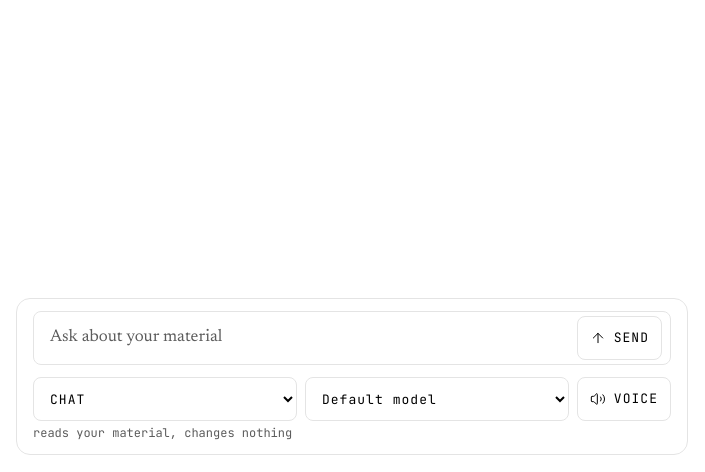
Test case: the agent dock › the conversations › loads the history when the list is opened
Click the text box labelled "Ask about your material" at (305, 338), box [42,316,569,360]
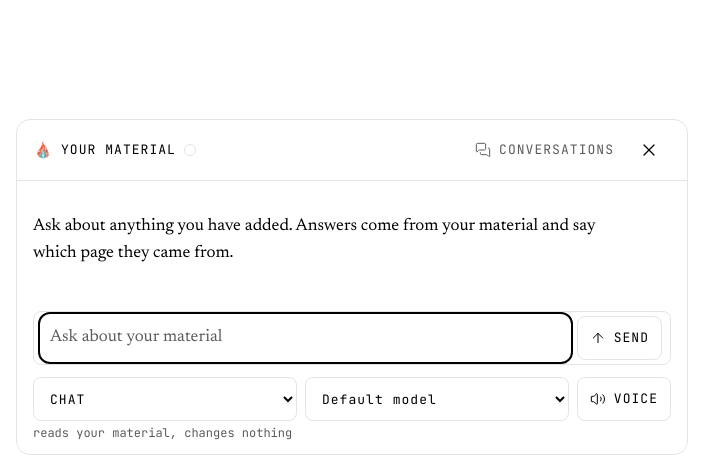
Click the button "Conversations" at (545, 150), box [466,128,623,172]
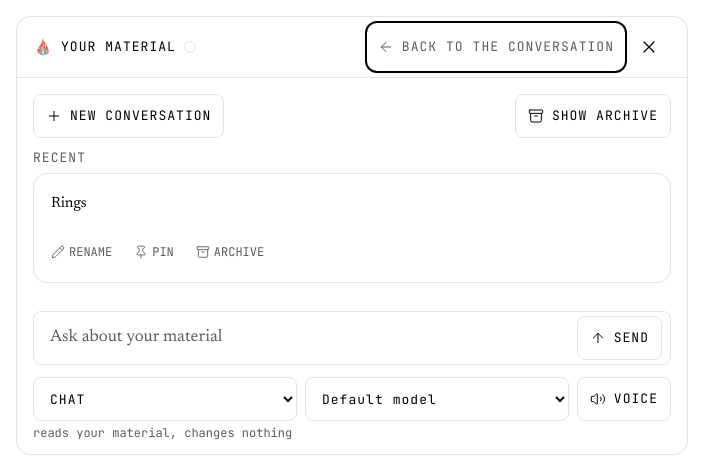
Result: the button "Rings" is shown at [42,182,662,226]
